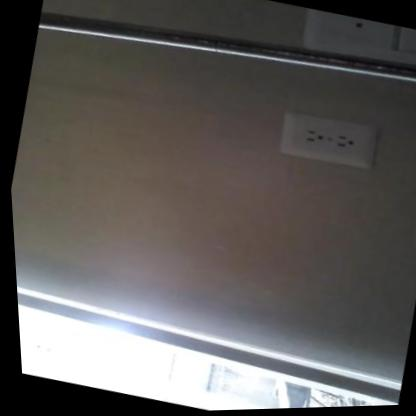OUTLET: (275, 108, 380, 172)
